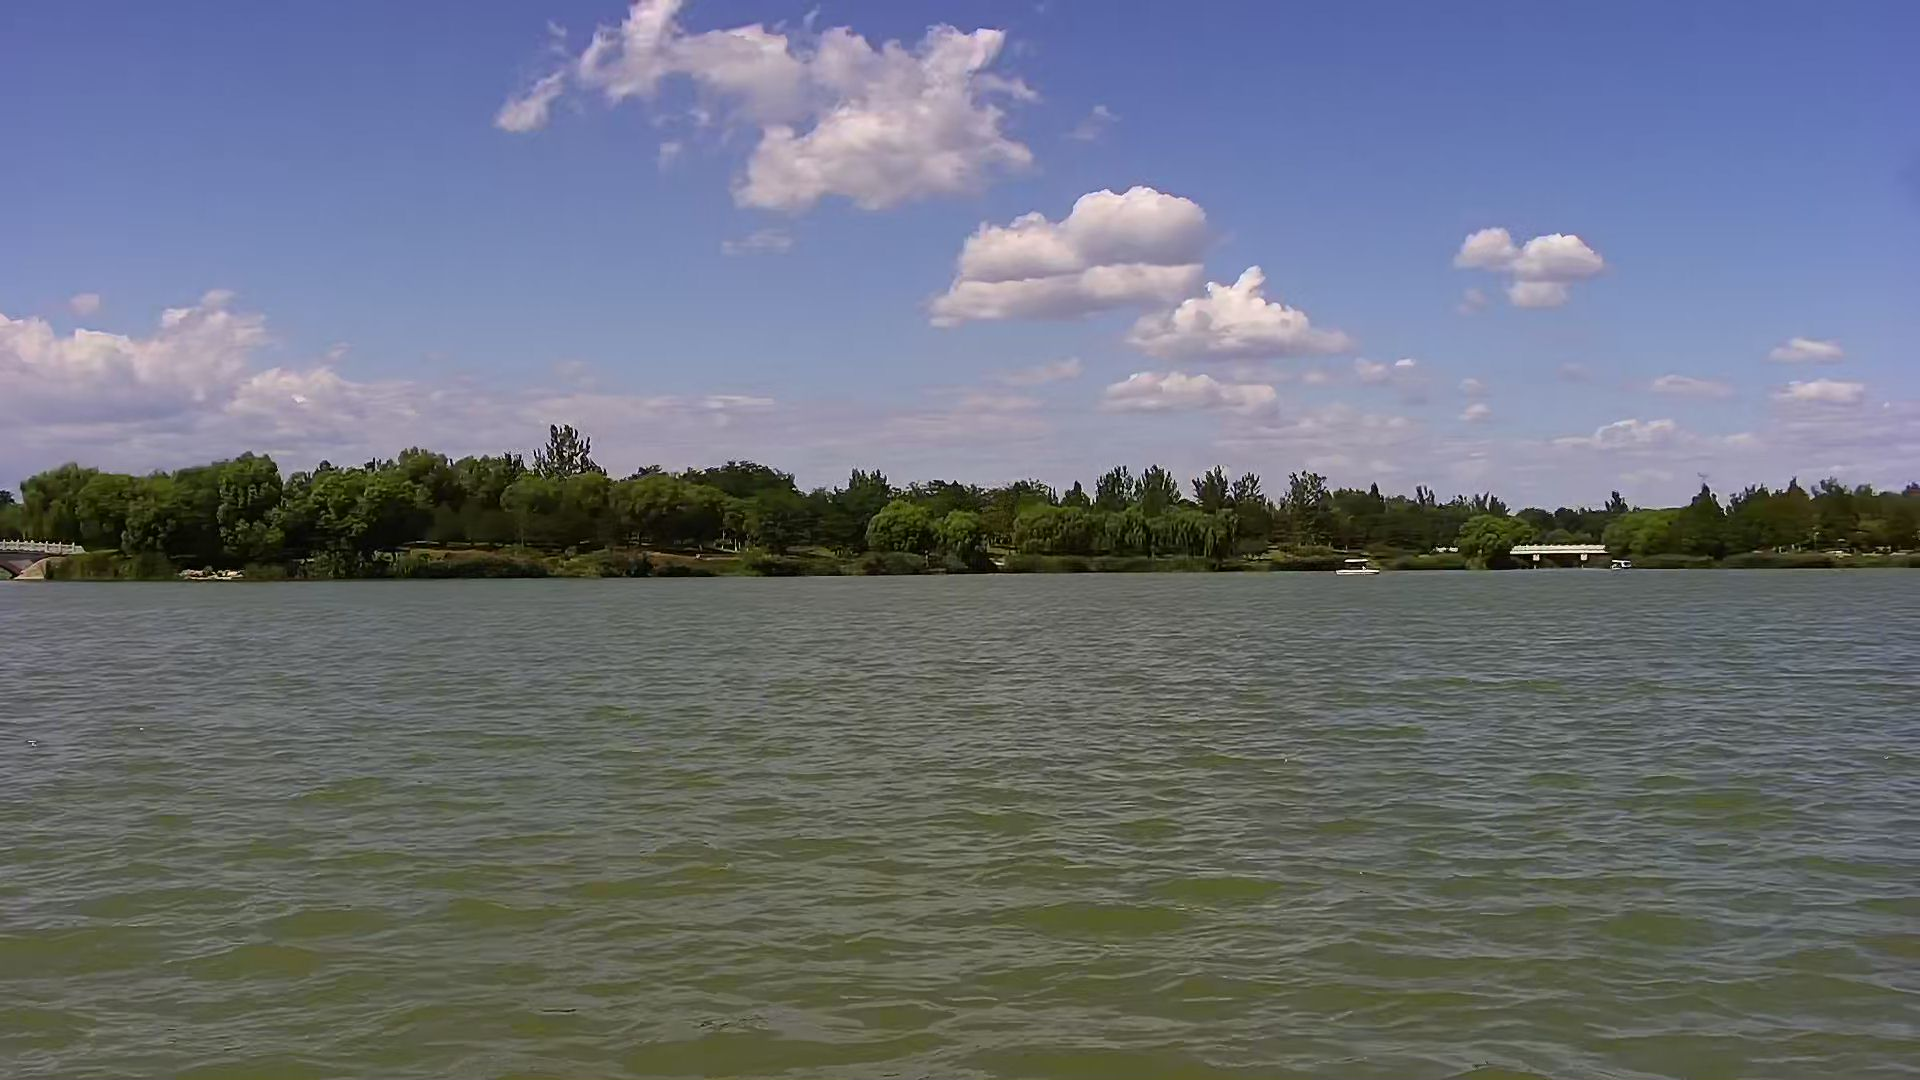bridge: (1509, 541, 1605, 568), (1, 538, 44, 576)
